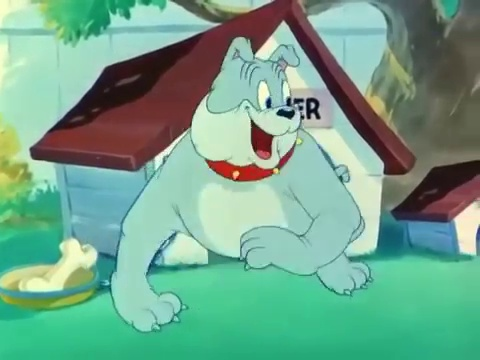spike: (186, 30, 311, 185)
